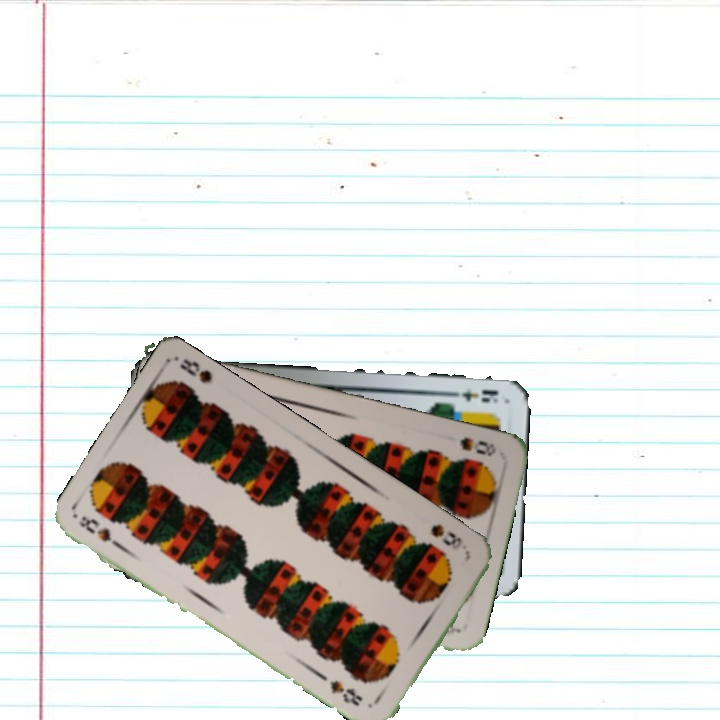EK: (445, 384, 501, 406)
S8: (74, 511, 127, 553), (426, 520, 465, 549), (456, 433, 499, 459)
